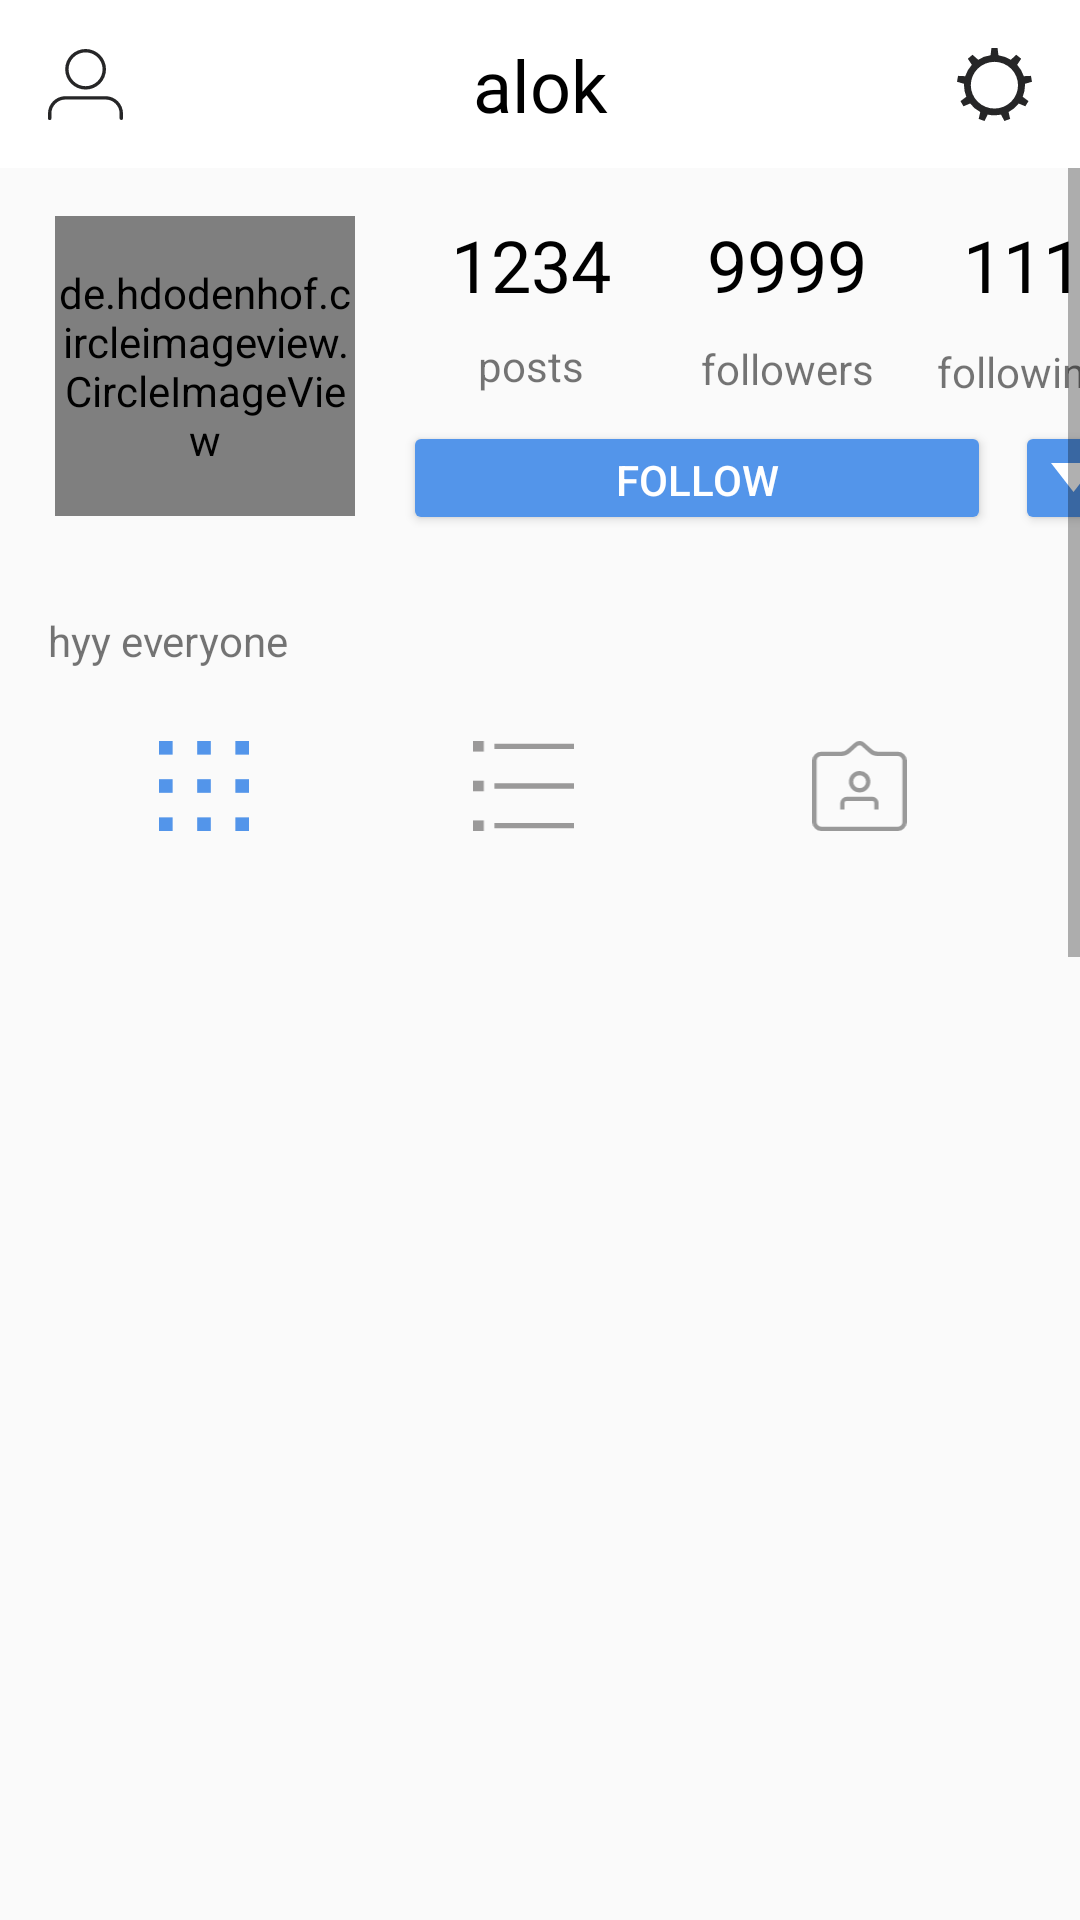

Where to tap for icons on this 1080*1920 app screen, as (x,y):
list: (523,786)
tags: (859,786)
user profile: (85,84)
user setting: (994,84)
